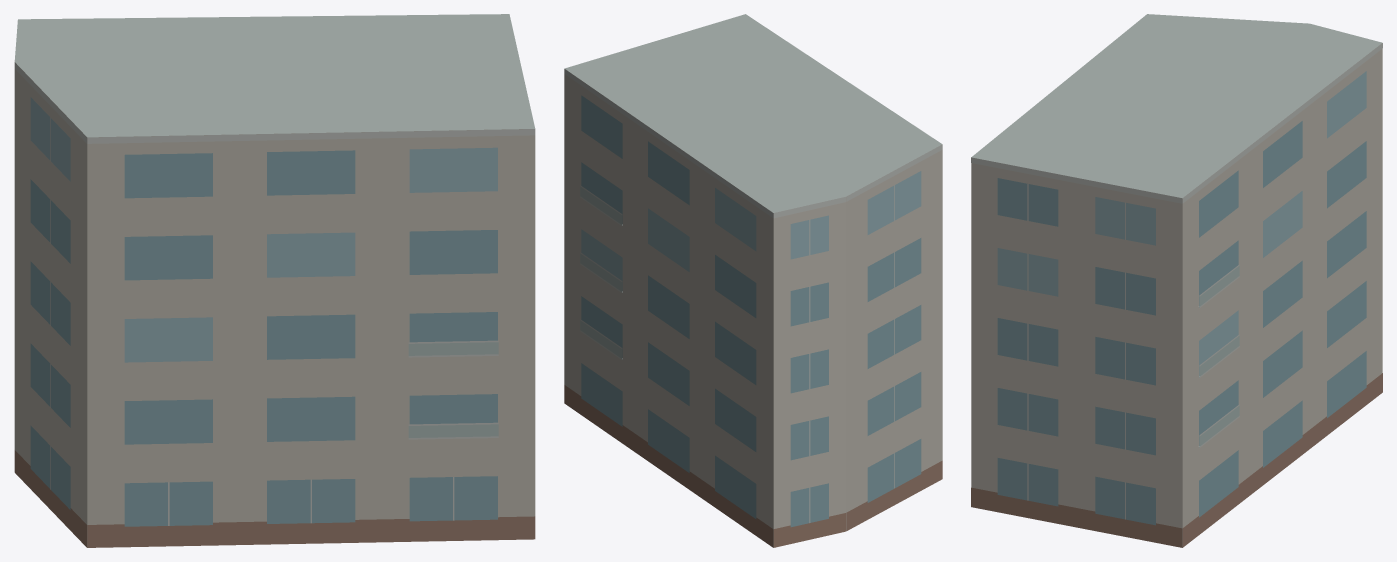
File: survey-upis-32820755.glb
The picture shows the model from 3 angles, left to right: view 1: azimuth 30°, elevation 25°; view 2: azimuth 150°, elevation 25°; view 3: azimuth 270°, elevation 25°; orthographic projection. The views are drawn at different scales.
Visible parts, largest first — view 1: survey-upis-32820755.tmp; view 2: survey-upis-32820755.tmp; view 3: survey-upis-32820755.tmp.
Part boxes in pixels (x1=…): survey-upis-32820755.tmp: x1=14, y1=14, x2=535, y2=547; survey-upis-32820755.tmp: x1=564, y1=14, x2=942, y2=547; survey-upis-32820755.tmp: x1=971, y1=14, x2=1382, y2=547.
Size of the model in its own units: 17.24 by 15.25 by 16.28.
